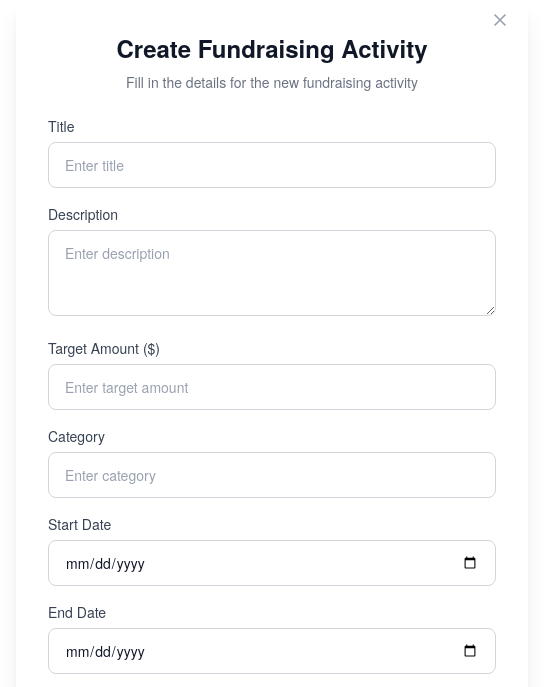
Test: CreateFundraisingActivityPage › blocks submission when title is empty
This screenshot has width=545, height=687.
Type "A great cause." into the text box labelled "Description".
click(272, 273); type("A great cause.")  # box [48, 230, 496, 316]
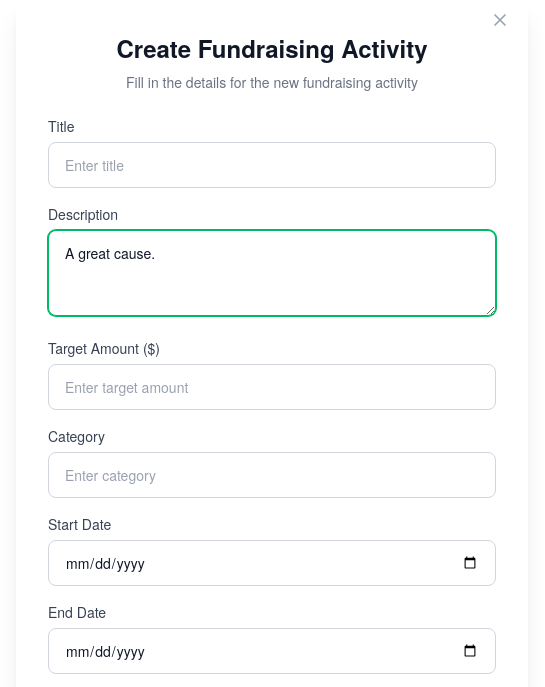
Type "5000" into the number field labelled "Target Amount ($)".
click(272, 387); type("5000")  # box [48, 364, 496, 410]
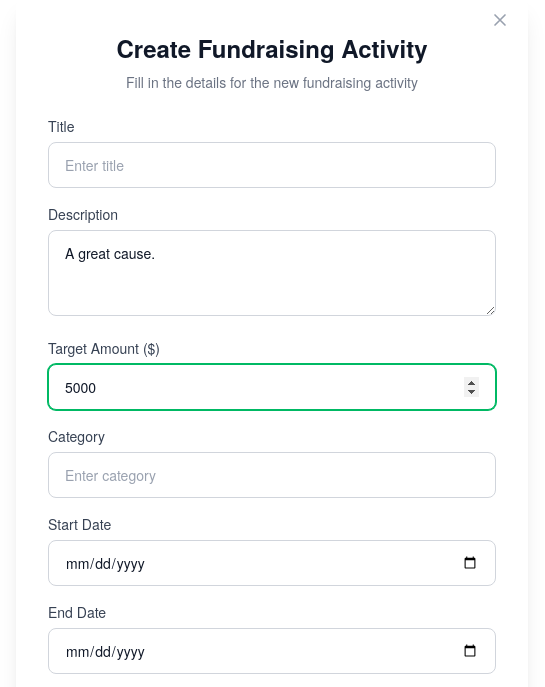
Type "Community" into the field labelled "Category".
click(272, 475); type("Community")  # box [48, 452, 496, 498]
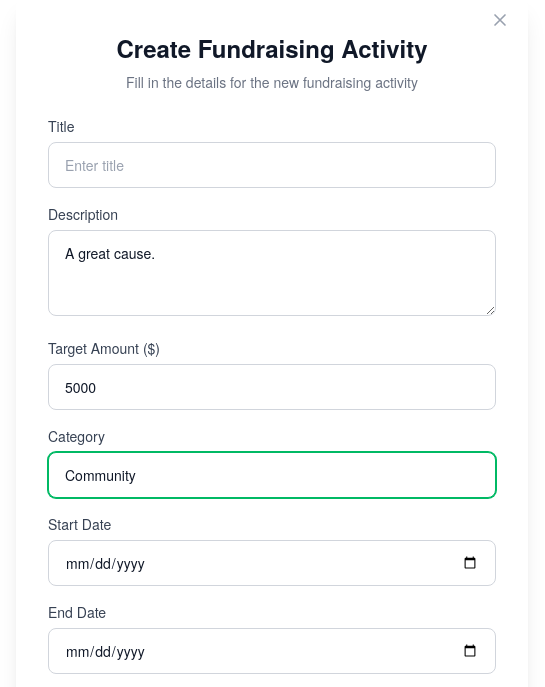
Type "2026-05-01" into the date field labelled "Start Date".
click(272, 563); type("2026-05-01")  # box [48, 540, 496, 586]
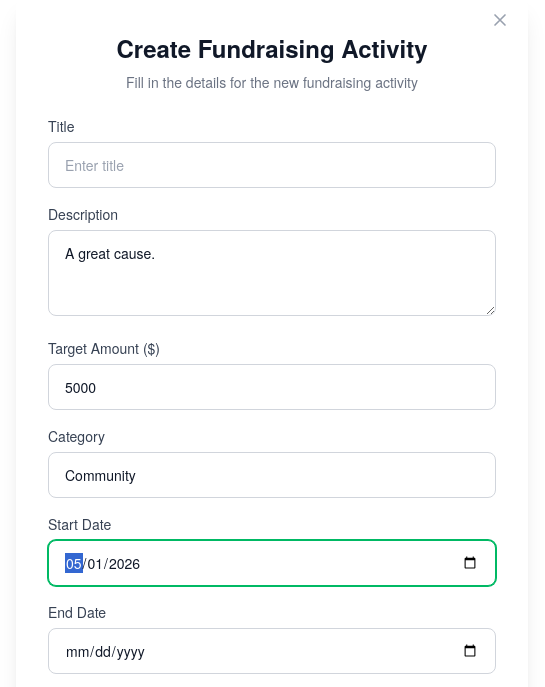
Type "2026-06-01" into the date field labelled "End Date".
click(272, 651); type("2026-06-01")  # box [48, 628, 496, 674]
(page scrolled)
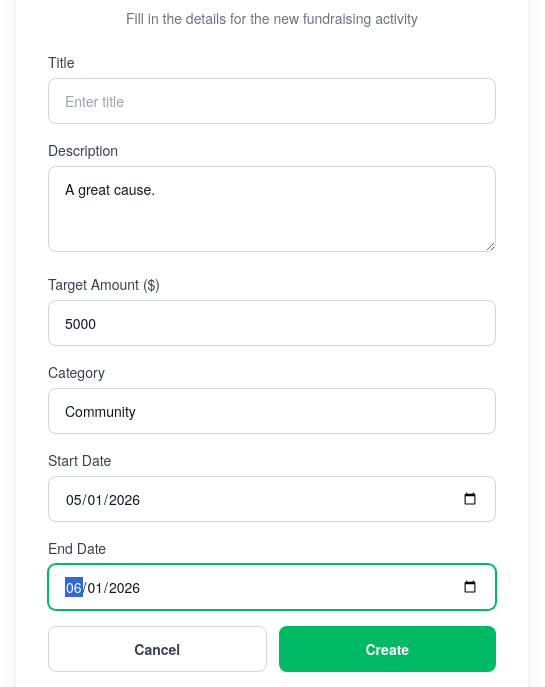
Click the button "Create".
click(387, 649)  # box [278, 626, 496, 672]
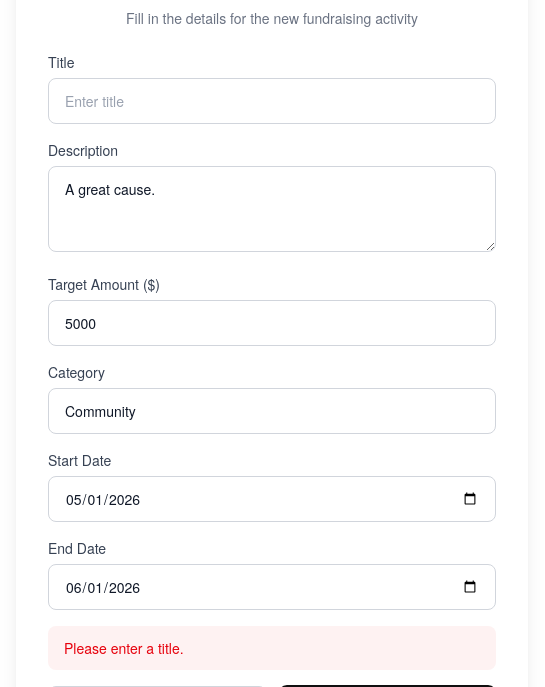
Now the text "Please enter a title." is shown, box [64, 638, 184, 658]
